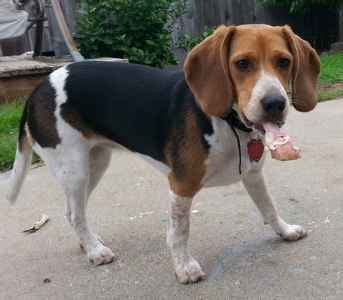dog: (2, 23, 315, 272)
